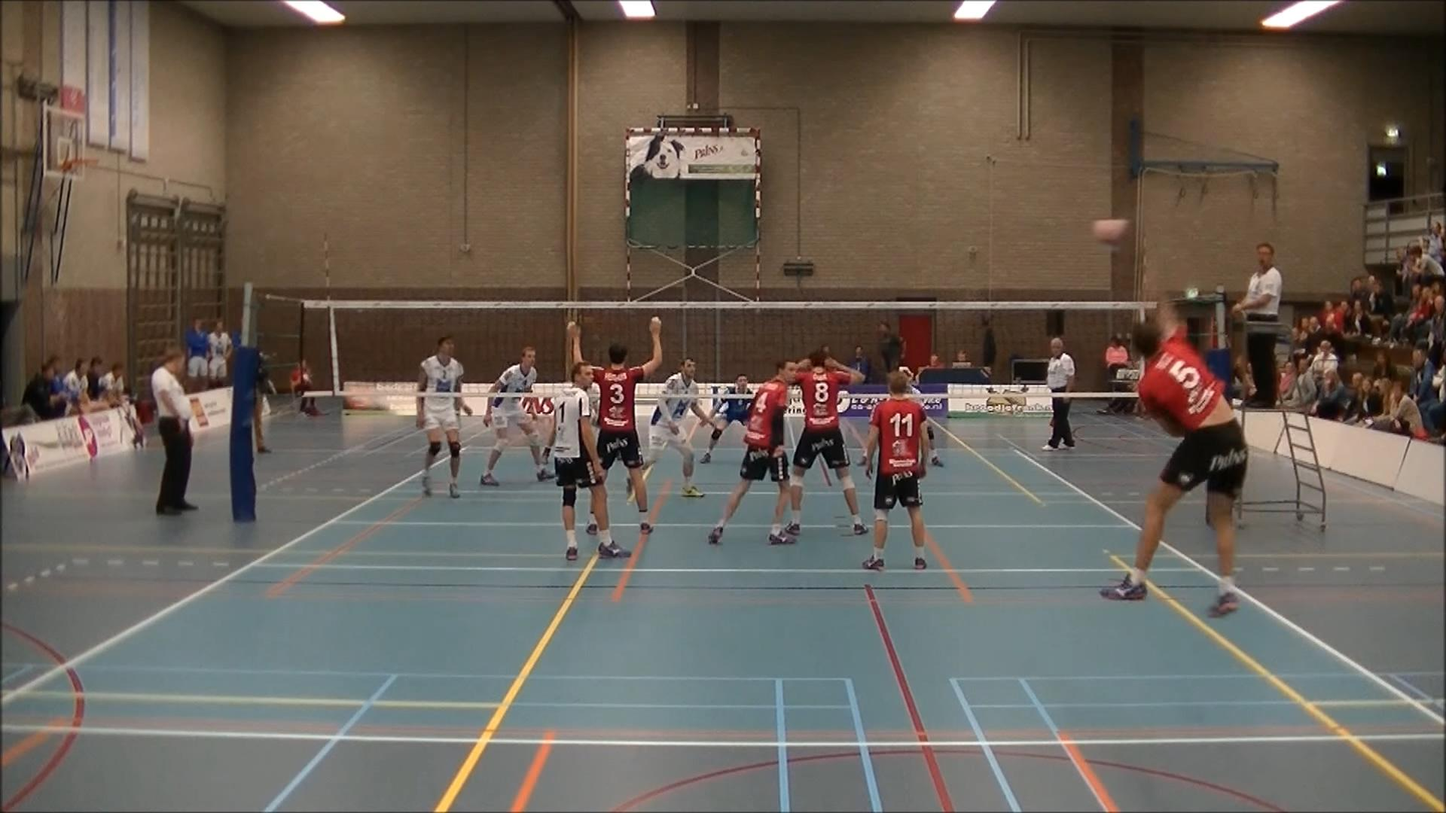battuta: (1092, 286, 1249, 622)
